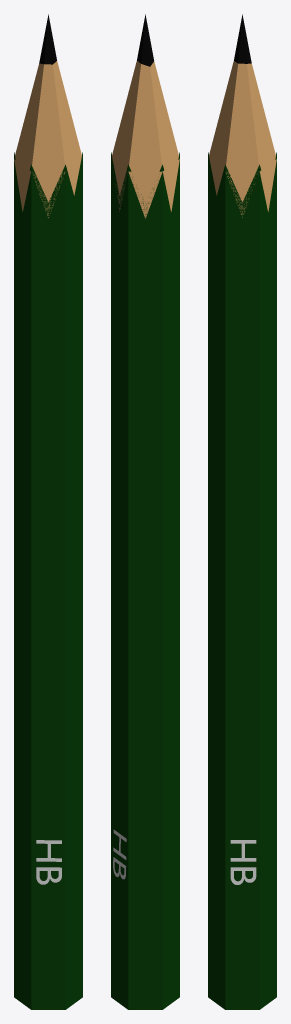
The model's file is enpitu.fbx.
3 renders of one model, left to right at view 1: azimuth 90°, elevation 25°; view 2: azimuth 210°, elevation 25°; view 3: azimuth 270°, elevation 25°, orthographic.
Visible parts, largest first — view 1: 円柱, 円柱.004, テキスト.001, 円柱.003; view 2: 円柱, 円柱.004, 円柱.003, テキスト; view 3: 円柱, 円柱.004, テキスト, 円柱.003.
Part boxes in pixels (<box>): 円柱: <box>14,152,82,1009</box>; 円柱.004: <box>14,61,81,217</box>; テキスト.001: <box>36,840,61,884</box>; 円柱.003: <box>39,14,56,64</box>; 円柱: <box>111,152,179,1009</box>; 円柱.004: <box>112,61,179,218</box>; 円柱.003: <box>137,14,153,66</box>; テキスト: <box>113,829,126,879</box>; 円柱: <box>208,152,276,1009</box>; 円柱.004: <box>209,61,276,217</box>; テキスト: <box>230,840,256,884</box>; 円柱.003: <box>234,14,251,63</box>.
Size of the model in its own units: 16.63 by 294 by 18.64.
